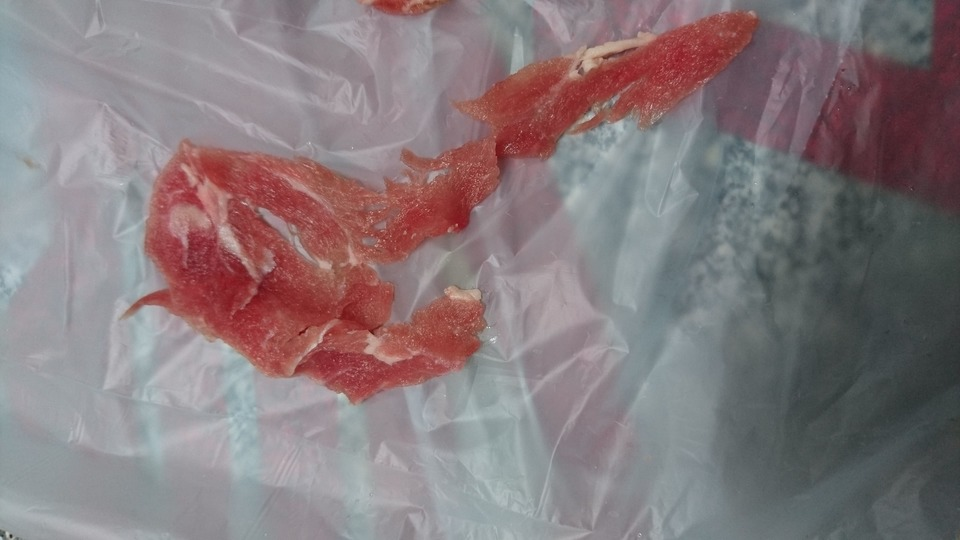restructured meat: (117, 19, 758, 426)
